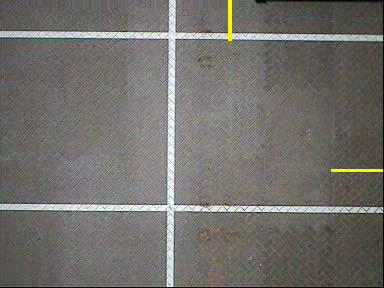groundmarker_2: (96, 186, 174, 235)
